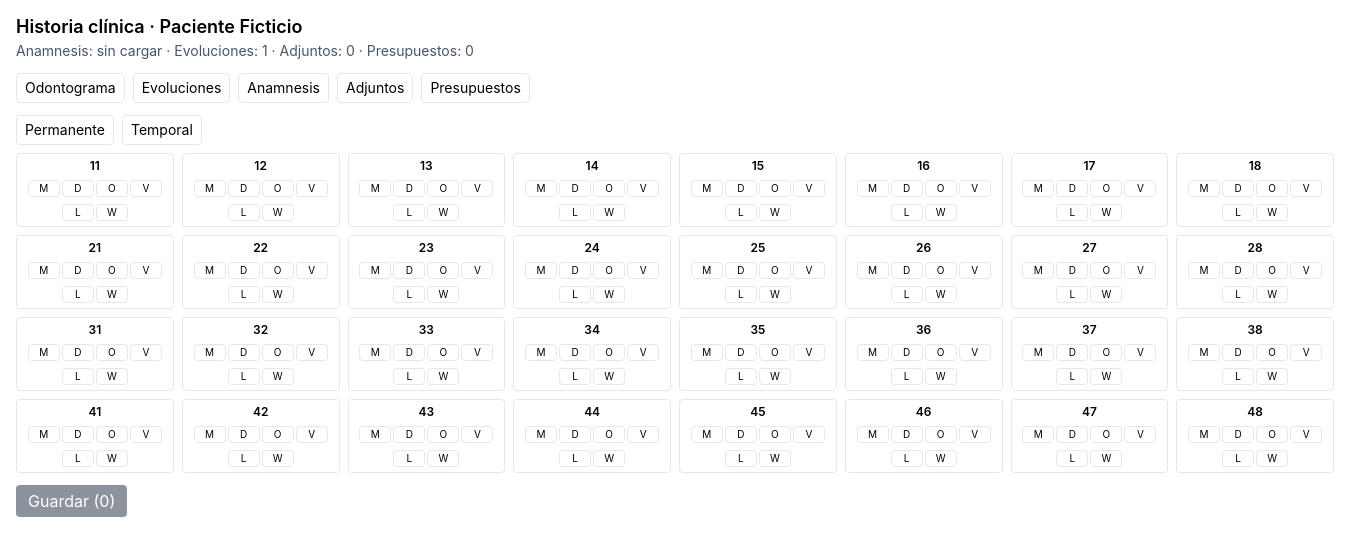
Scenario: Presupuestos › muestra los totales que calcula el servidor
The image size is (1351, 534).
Check: the heading "Historia clínica · Paciente Ficticio" is shown, box left=16, top=16, right=302, bottom=37
Click the tab "presupuestos": (476, 88) left=421, top=73, right=530, bottom=103
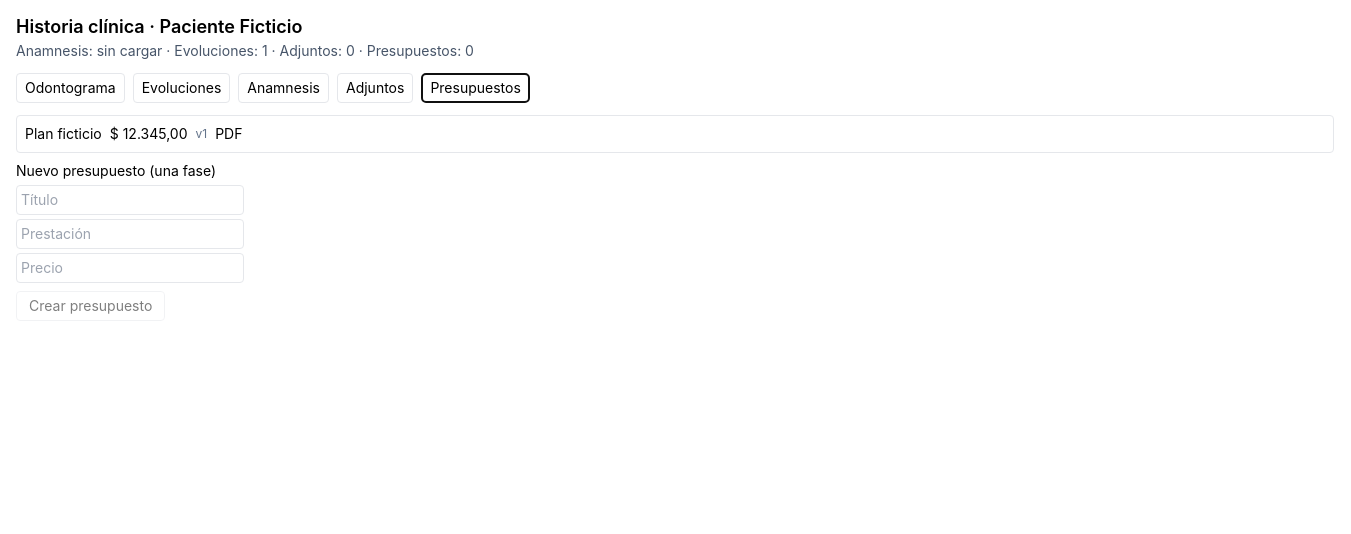
Check: the text "Plan ficticio" is shown, box left=25, top=124, right=102, bottom=144
Check: the text "$ 12.345,00" is shown, box left=110, top=124, right=188, bottom=144
